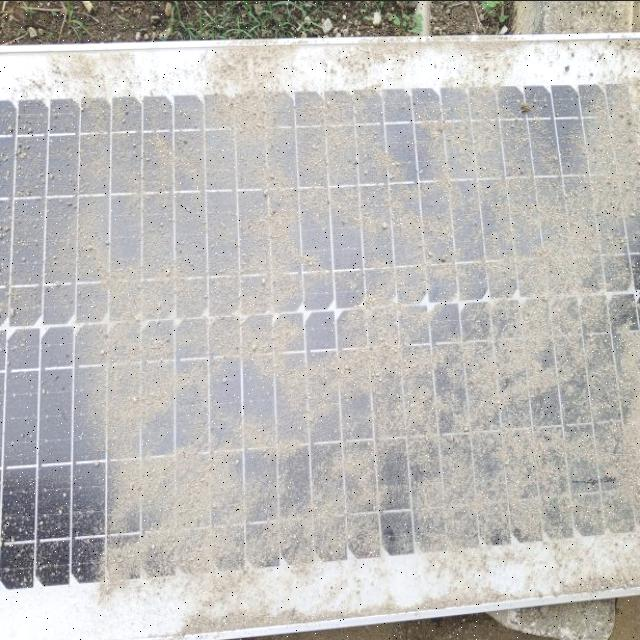Surface Contaminant: (91, 52, 637, 567)
